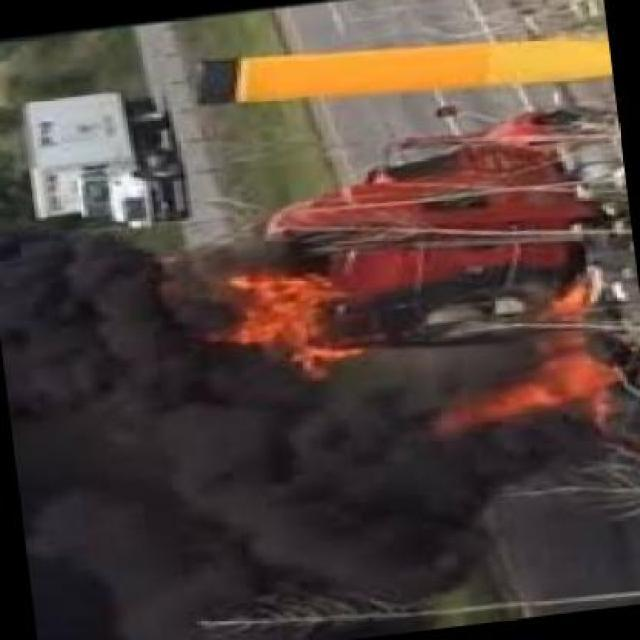Fire: (446, 296, 618, 426), (224, 266, 357, 367)
Smoke: (16, 366, 456, 638), (7, 217, 219, 369), (450, 426, 608, 586)
